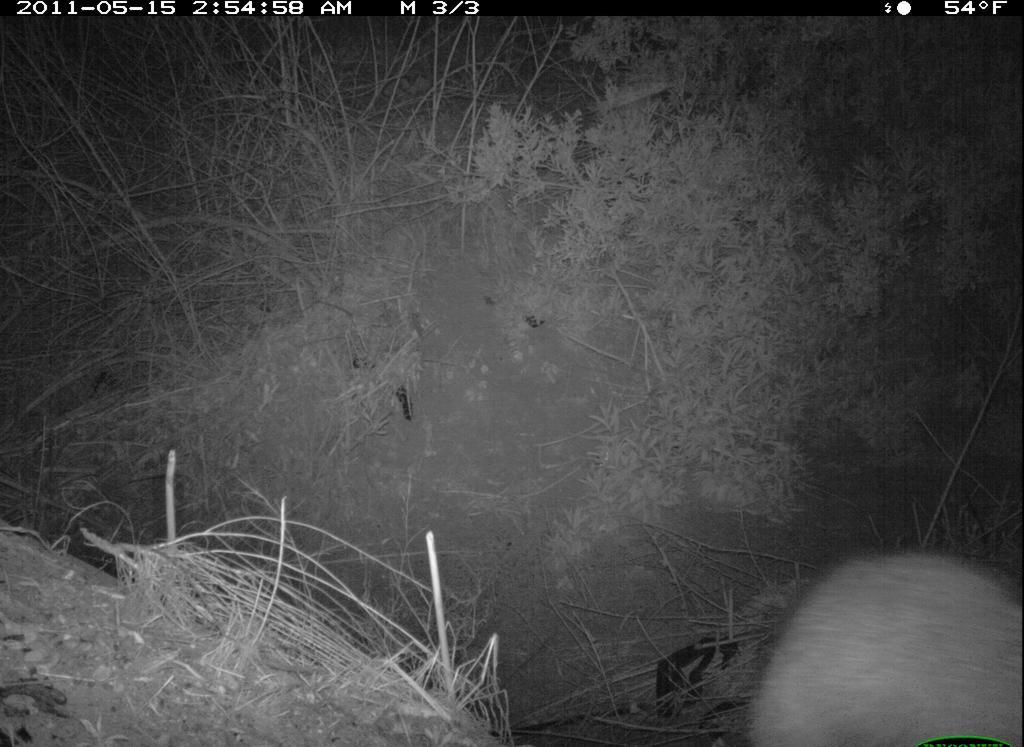raccoon: (721, 527, 1023, 747)
